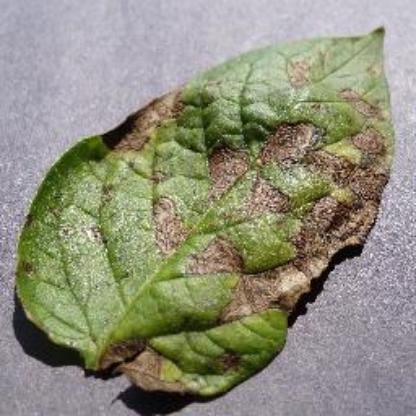Early-Blight: (17, 24, 396, 396)
